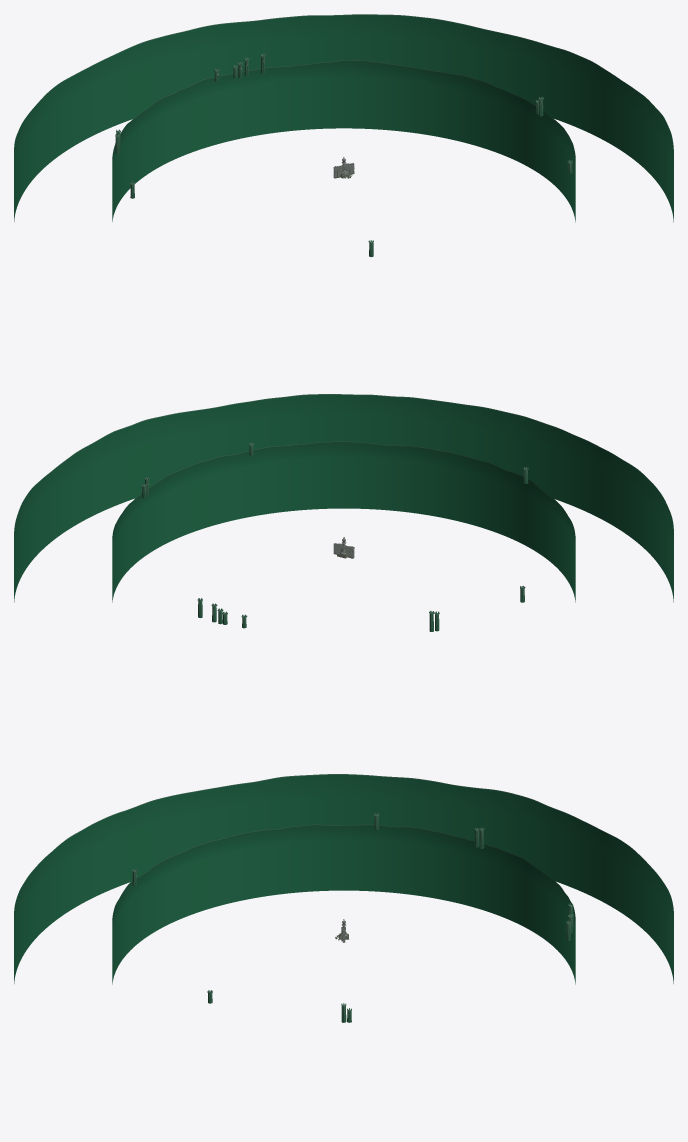
The model's file is endgames.glb.
The picture shows the model from 3 angles, top to bottom: view 1: azimuth 30°, elevation 25°; view 2: azimuth 150°, elevation 25°; view 3: azimuth 270°, elevation 25°; orthographic projection.
Visible parts, largest first — view 1: horizon-far, horizon-near; view 2: horizon-far, horizon-near; view 3: horizon-far, horizon-near.
Part boxes in pixels (box(x1,y1,x2,y2)): horizon-far: box(14, 14, 673, 222); horizon-near: box(112, 53, 575, 256); horizon-far: box(14, 394, 673, 602); horizon-near: box(112, 441, 575, 631); horizon-far: box(14, 774, 673, 983); horizon-near: box(112, 813, 575, 1022).
Size of the model in its own units: 470 by 65.58 by 470.
23 materials, 21 textured.
